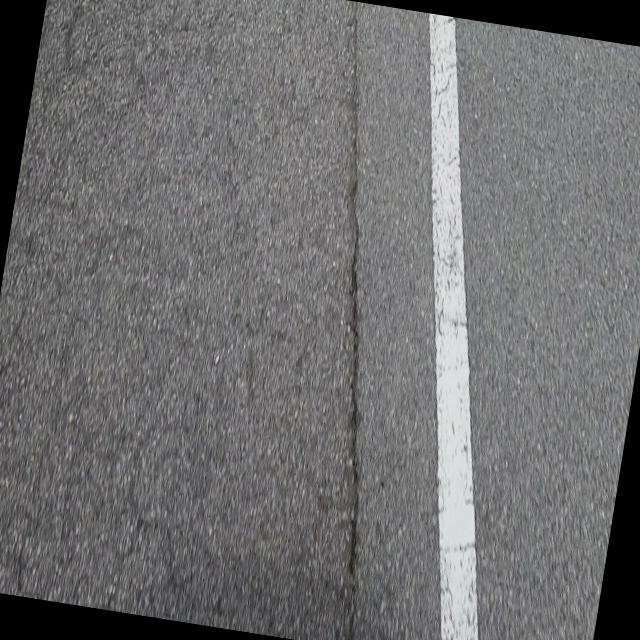Retak-Memanjang: (348, 1, 360, 570)
